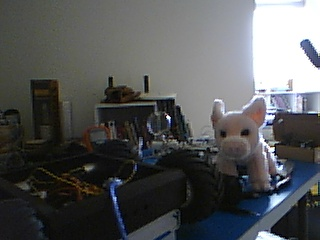piggy: (207, 94, 278, 191)
